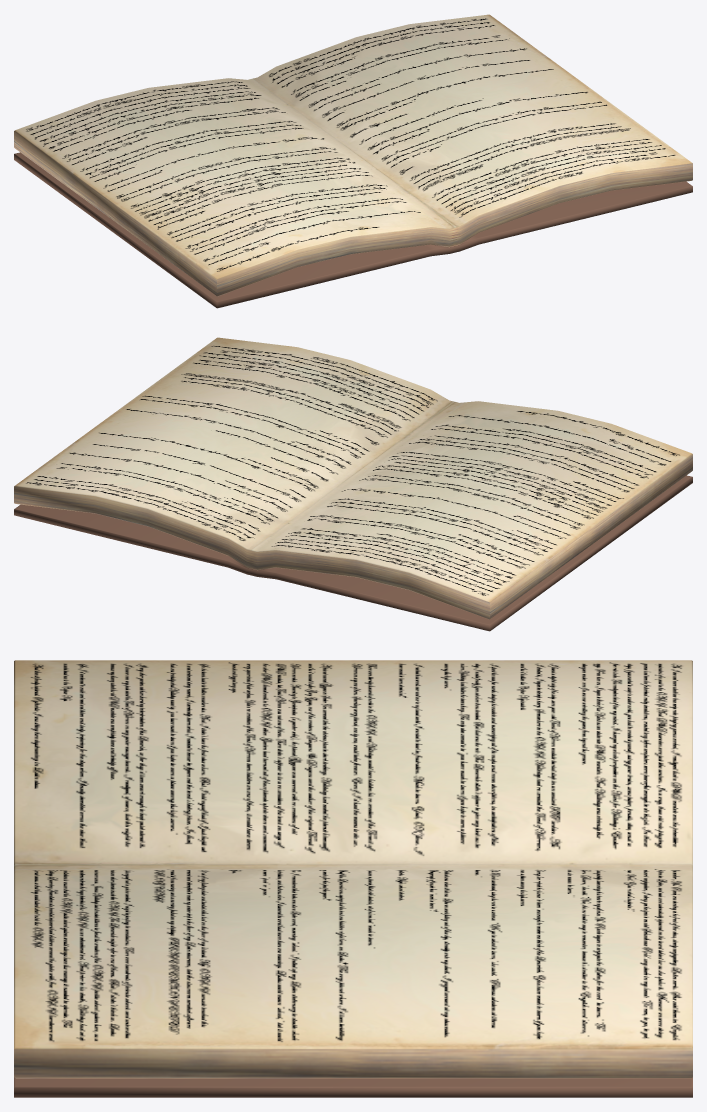
The model's file is Open_Book.FBX.
The picture shows the model from 3 angles, top to bottom: view 1: azimuth 30°, elevation 25°; view 2: azimuth 150°, elevation 25°; view 3: azimuth 270°, elevation 25°; orthographic projection. The views are drawn at different scales.
Visible parts, largest first — view 1: open_book01; view 2: open_book01; view 3: open_book01.
Boxes of the visible parts, bbox=[...] form: open_book01: bbox=[14, 14, 692, 308]; open_book01: bbox=[14, 337, 692, 631]; open_book01: bbox=[14, 660, 692, 1097].
Bounding box in the file's own units: 10.55 × 0.8962 × 7.8.
Materials: 1 (1 with a texture image).
